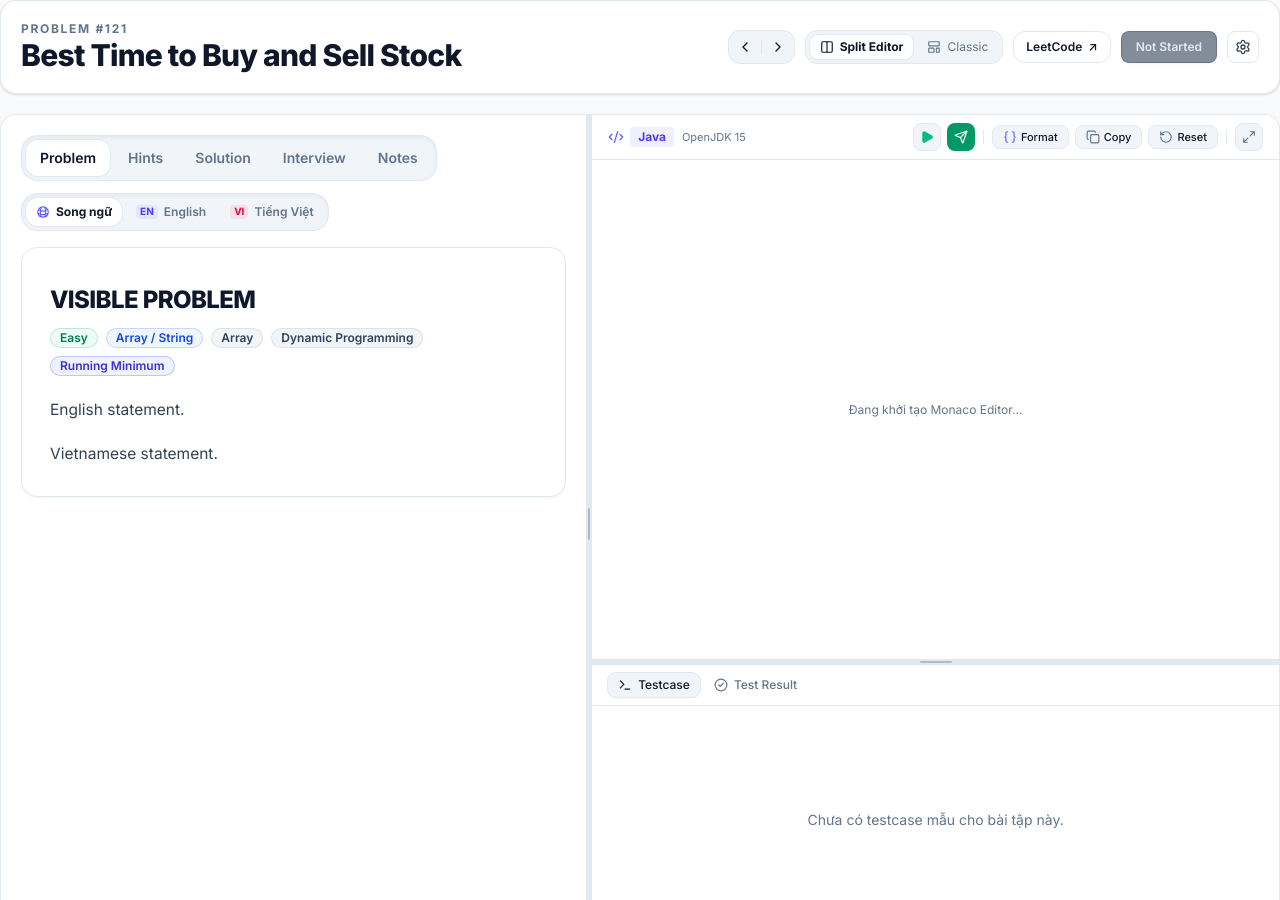
it: PracticeView › shows all hints immediately when the Hints tab is selected
Expected: the heading "VISIBLE PROBLEM" is shown, top-left (50, 285), bottom-right (255, 314)
Click the tab "Hints" at (146, 158), box top-left (114, 140), bottom-right (177, 176)
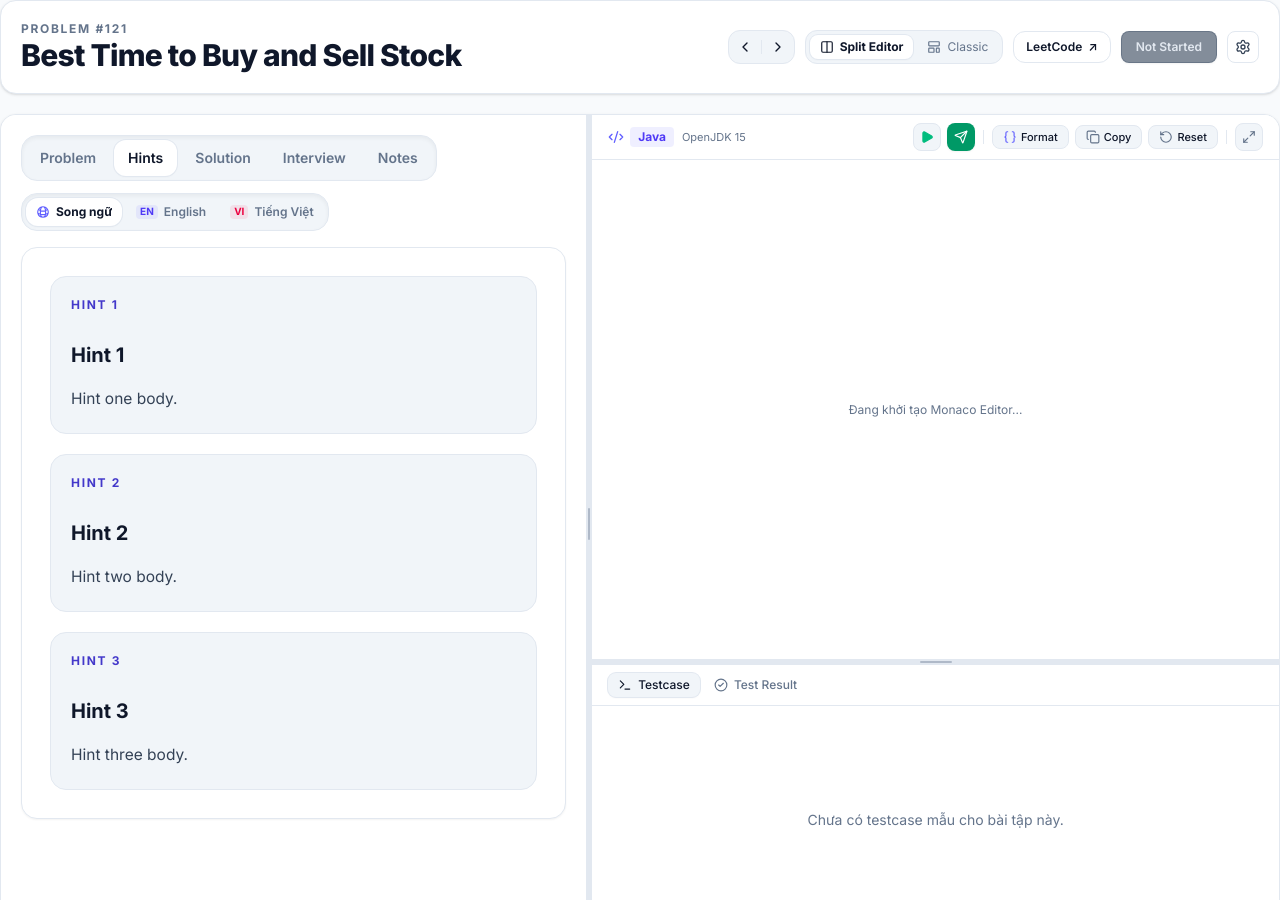
Expected: the text "Hint one body." is shown, top-left (71, 389), bottom-right (178, 408)
Expected: the text "Hint two body." is shown, top-left (71, 567), bottom-right (177, 586)
